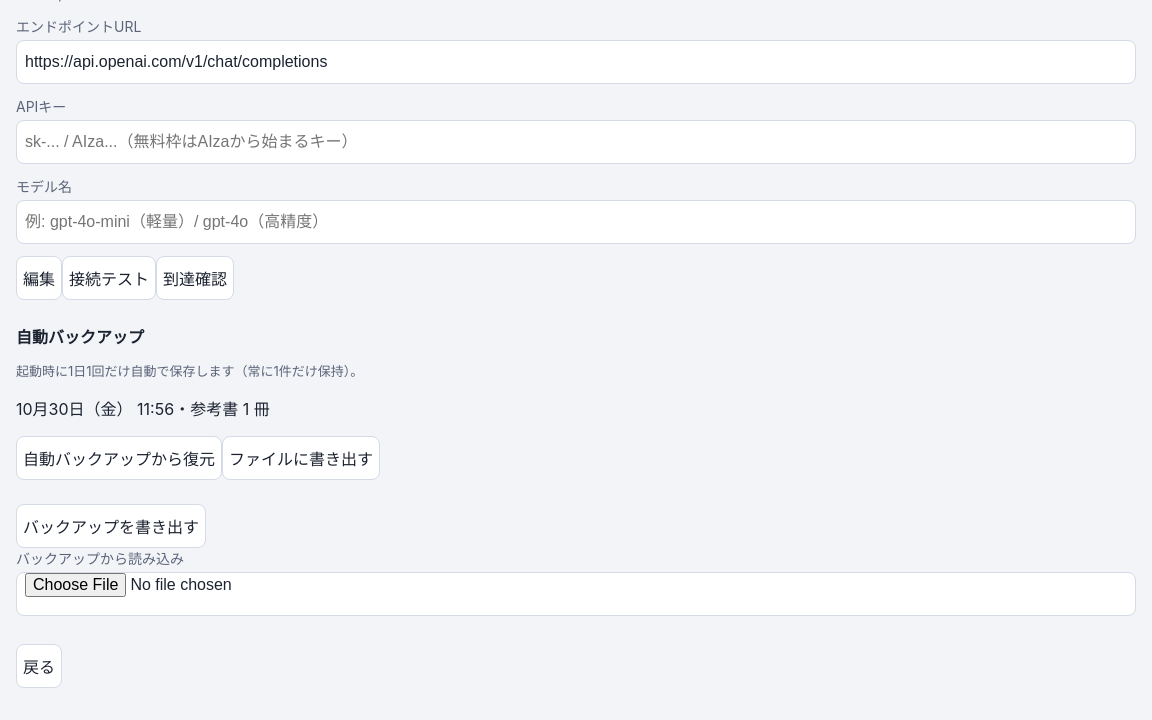
Test case: shows the auto backup and restores it
(page scrolled)
Expected: the text with test id "auto-backup-info" shows "参考書 1 冊", [16,399,270,419]
Click the button with test id "auto-backup-restore".
click(119, 458)  # box [16,436,222,480]
(page scrolled)
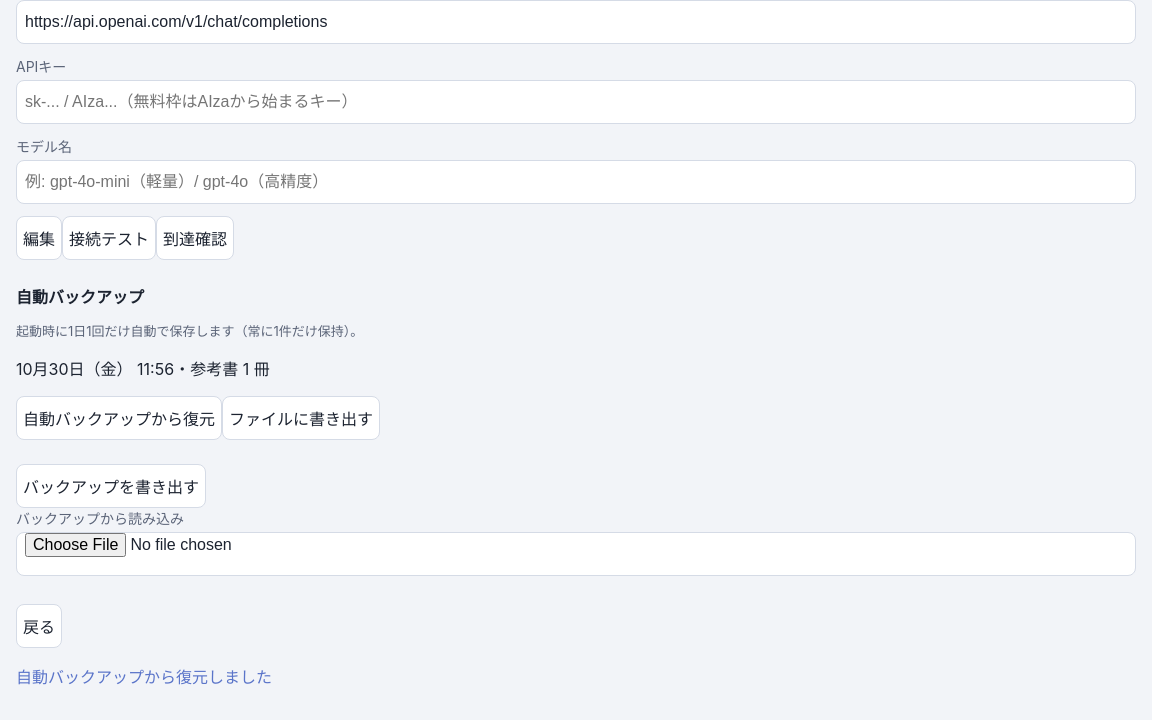
Now the text with test id "backup-result" shows "復元しました", box [16,667,272,687]
